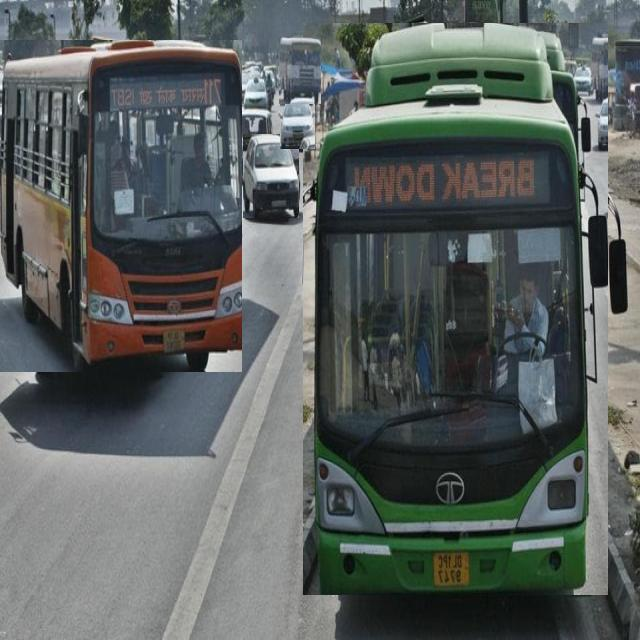bus: (304, 24, 608, 595), (0, 40, 242, 372), (279, 37, 321, 104)
car: (244, 135, 299, 218), (280, 100, 315, 149)
